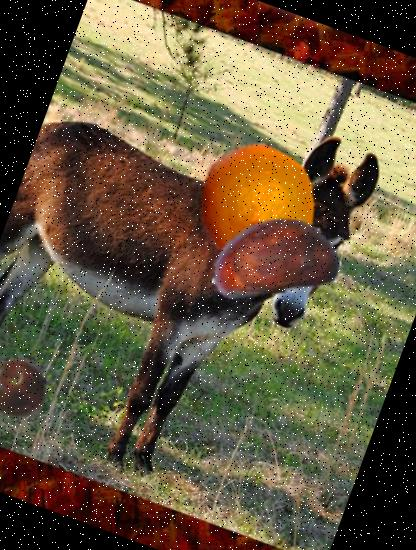Chestnut: (191, 173, 358, 340)
Lemon: (178, 125, 336, 284)
Tomato: (0, 347, 55, 429)
